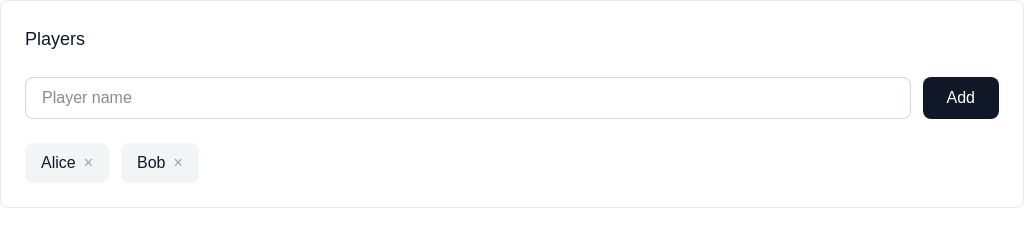
it: PlayerManagement › editing players › cancels edit when X is clicked
Click the text "Alice" at (58, 163), box [41,151,76,175]
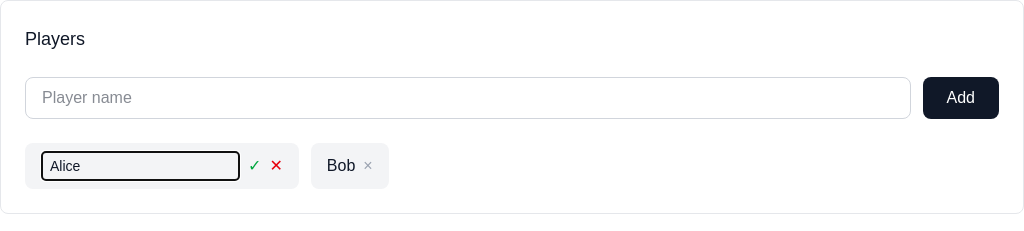
Replace the text in the field showing "Alice" with "Something else" at (140, 166), box [41,151,240,181]
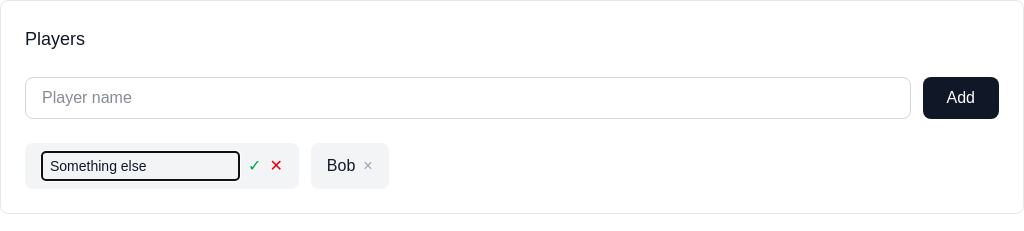
Click the button "✕" at (276, 166), box [269,154,283,178]
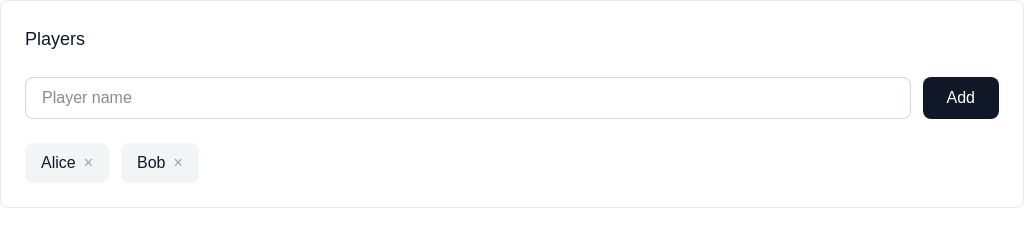
Now the text "Alice" is shown, box [41,151,76,175]
